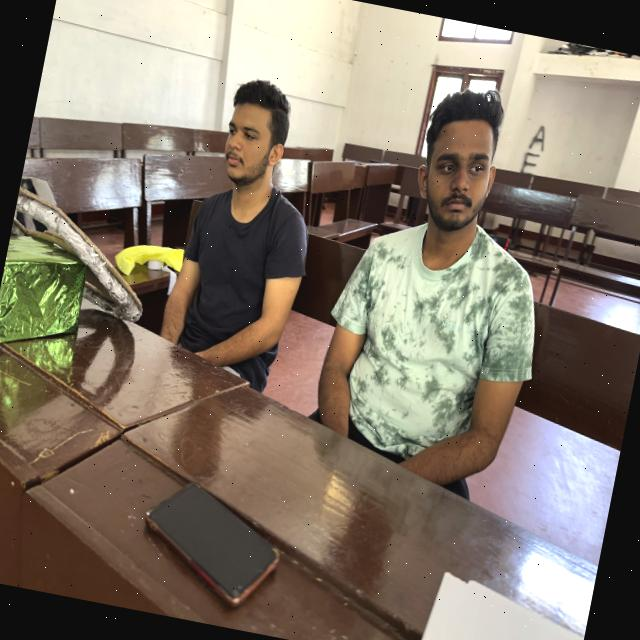no-seatbelt: (296, 212, 558, 528), (152, 179, 318, 416)
